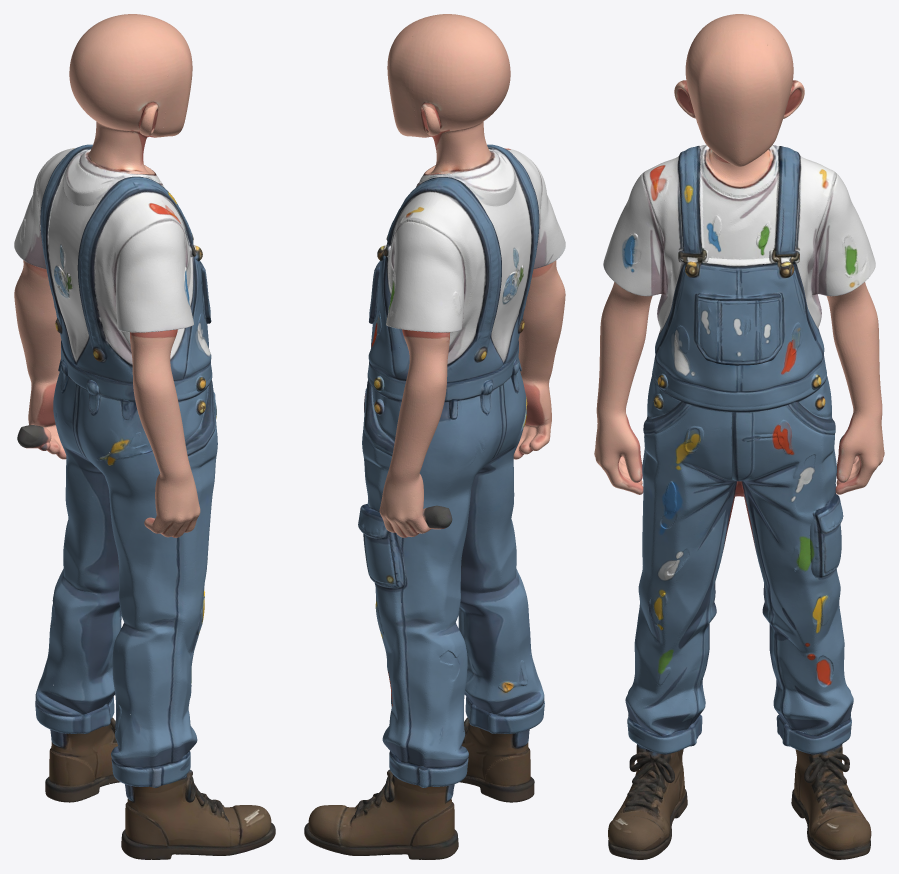
The model's file is paint-splattered+overalls+3d+model.glb.
The picture shows the model from 3 angles, left to right: view 1: azimuth 30°, elevation 25°; view 2: azimuth 150°, elevation 25°; view 3: azimuth 270°, elevation 25°; orthographic projection.
Visible parts, largest first — view 1: tripo_node_03a2e39c-8f19-4ccf-9ce6-0685290b9b9b; view 2: tripo_node_03a2e39c-8f19-4ccf-9ce6-0685290b9b9b; view 3: tripo_node_03a2e39c-8f19-4ccf-9ce6-0685290b9b9b.
Boxes of the visible parts, x1,y1,x2,y2 form: tripo_node_03a2e39c-8f19-4ccf-9ce6-0685290b9b9b: [14, 14, 275, 859]; tripo_node_03a2e39c-8f19-4ccf-9ce6-0685290b9b9b: [304, 14, 565, 859]; tripo_node_03a2e39c-8f19-4ccf-9ce6-0685290b9b9b: [594, 14, 884, 859].
Size of the model in its own units: 0.2071 by 1 by 0.3287.
Materials: 1 (1 with a texture image).
